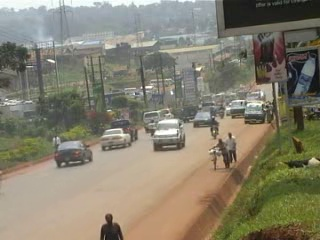Car: (52, 136, 94, 169), (108, 112, 141, 144), (99, 124, 135, 152), (192, 109, 217, 130), (180, 102, 200, 121), (224, 97, 233, 116)
Motorcycle: (206, 114, 221, 140), (145, 115, 159, 138), (217, 100, 227, 120)
